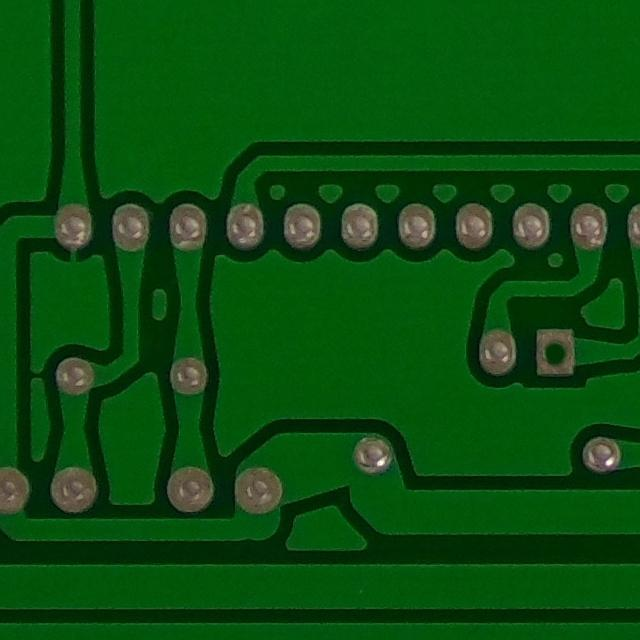missing_hole: (527, 319, 592, 385)
